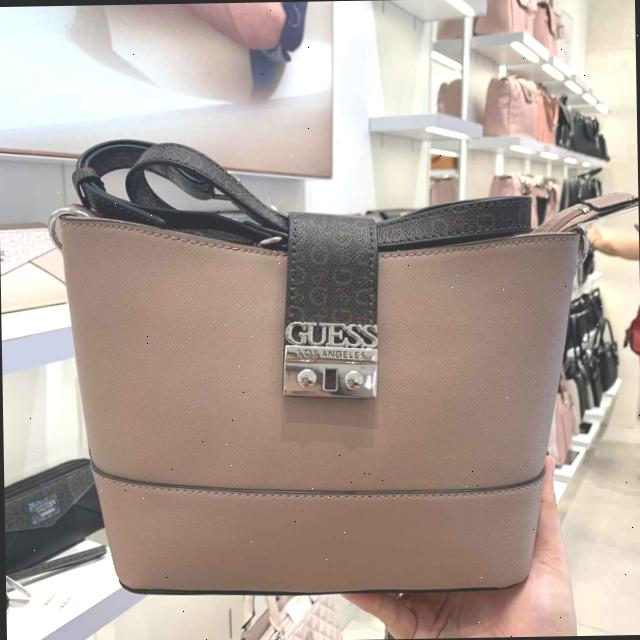Handbag: (41, 172, 604, 613)
